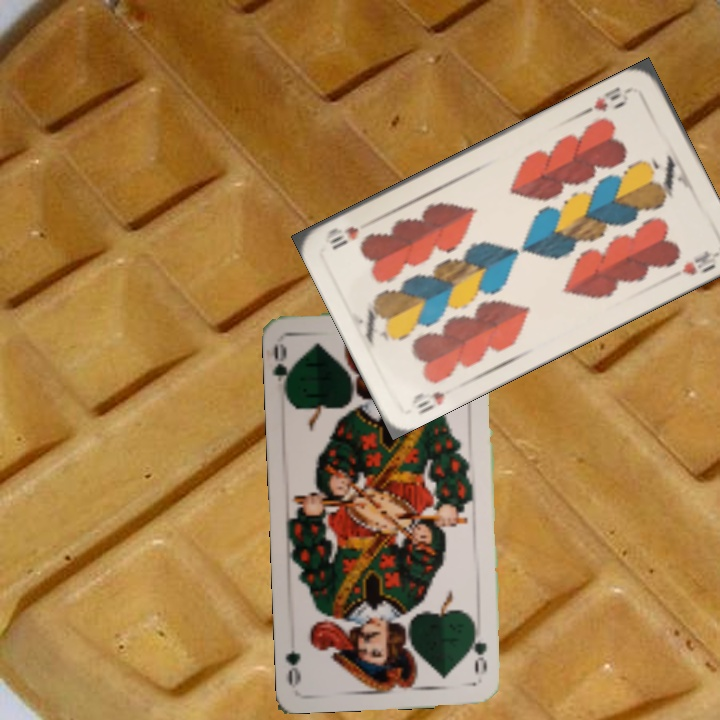GO: (270, 339, 297, 397), (467, 621, 490, 676)
H10: (580, 82, 636, 116), (407, 387, 448, 418)
